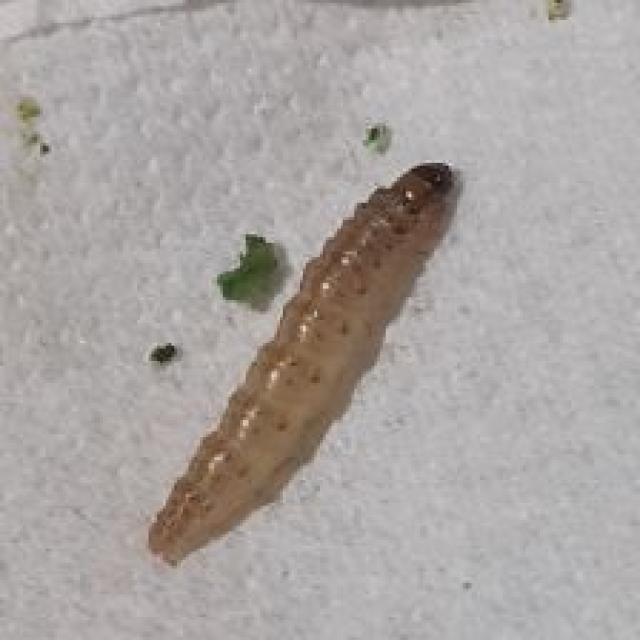white mucus: (126, 144, 510, 569)
